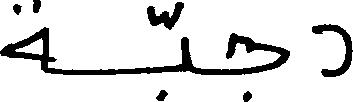X: (225, 28, 289, 101), (0, 0, 45, 77), (312, 19, 352, 81), (180, 0, 190, 76)
